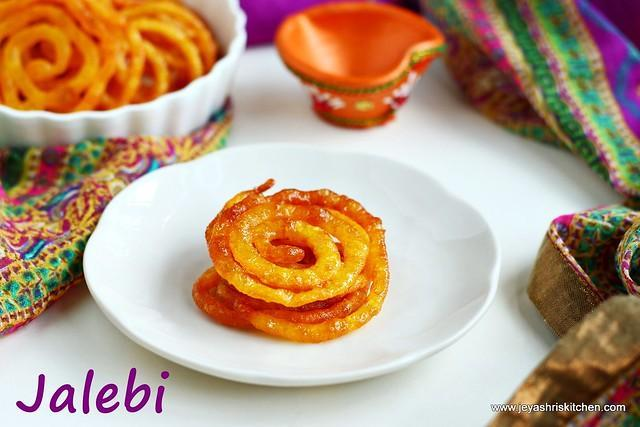jalebi: (187, 183, 412, 343), (6, 8, 230, 120)
